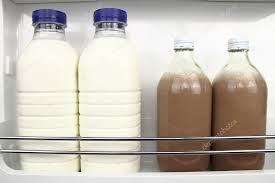milk: (17, 11, 80, 174), (80, 7, 142, 172)
